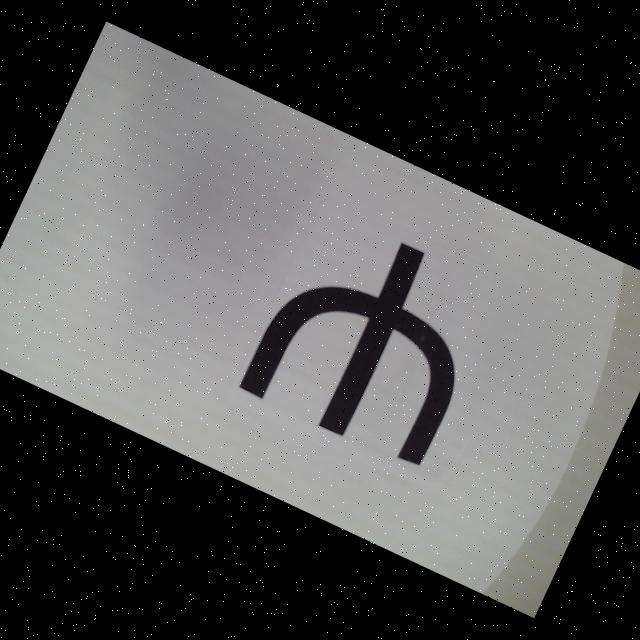PSI: (237, 205, 503, 472)
